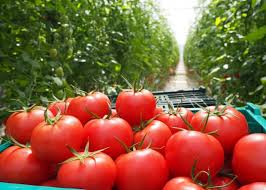tomato: (166, 131, 226, 179), (189, 106, 247, 153), (55, 149, 118, 187), (28, 115, 83, 158), (115, 148, 167, 188), (82, 117, 133, 155), (2, 144, 53, 181), (232, 130, 266, 183), (5, 108, 55, 142), (115, 89, 158, 126), (69, 93, 113, 123), (134, 123, 172, 154), (158, 108, 196, 135)
